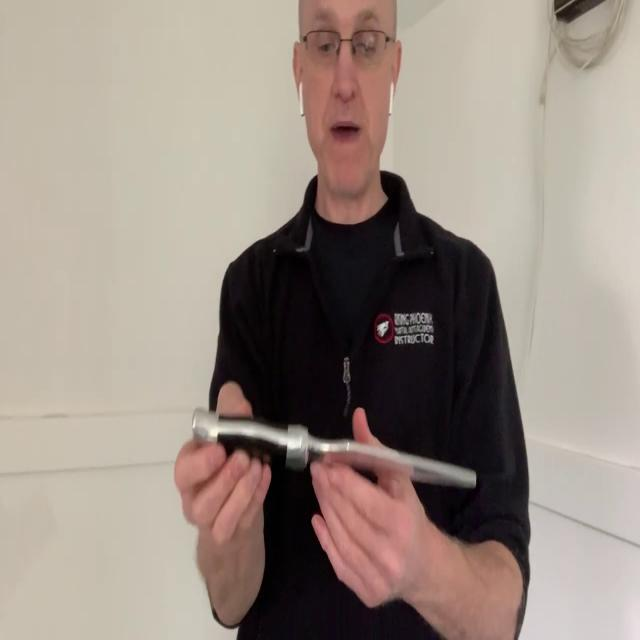Knife_Handle: (174, 380, 475, 608)
